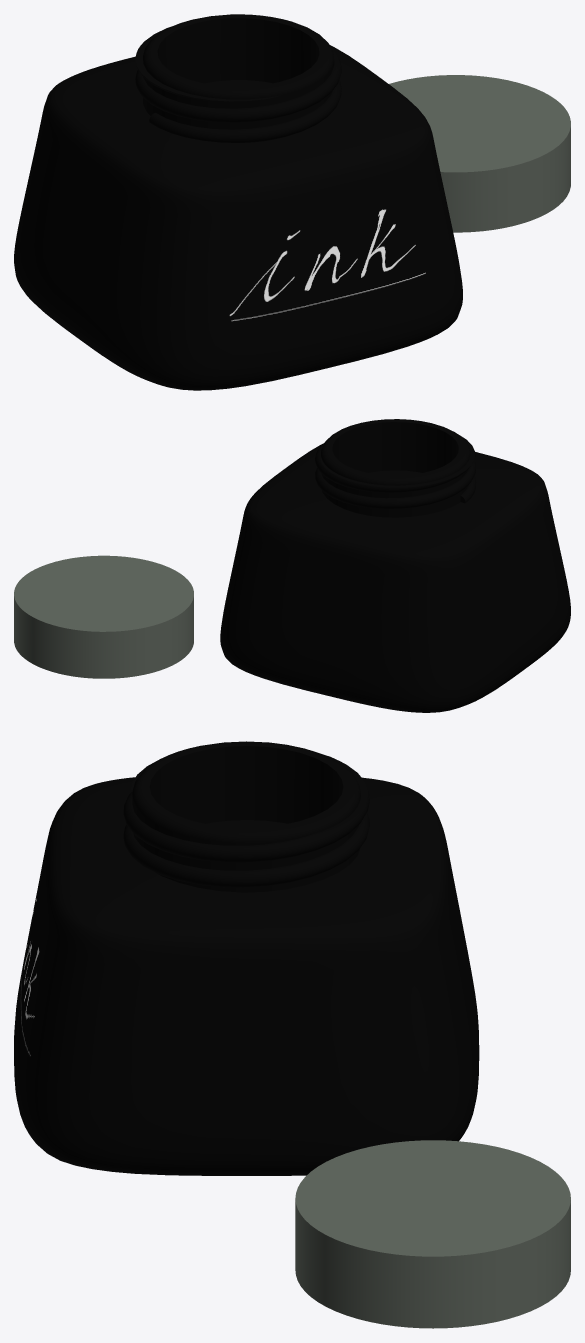
The model's file is 281_インク開.glb.
3 views of the same model, one above another, from view 1: azimuth 30°, elevation 25°; view 2: azimuth 150°, elevation 25°; view 3: azimuth 270°, elevation 25° (orthographic). The views are drawn at different scales.
Visible parts, largest first — view 1: body, 蓋; view 2: body, 蓋; view 3: body, 蓋.
Boxes of the visible parts, x1,y1,x2,y2 form: body: (14, 14, 462, 390); 蓋: (389, 75, 570, 232); body: (220, 419, 570, 712); 蓋: (14, 555, 193, 678); body: (14, 741, 479, 1175); 蓋: (295, 1140, 570, 1328).
Bounding box in the file's own units: 0.0883 × 0.039 × 0.0633.
Materials: 3 (1 with a texture image).
